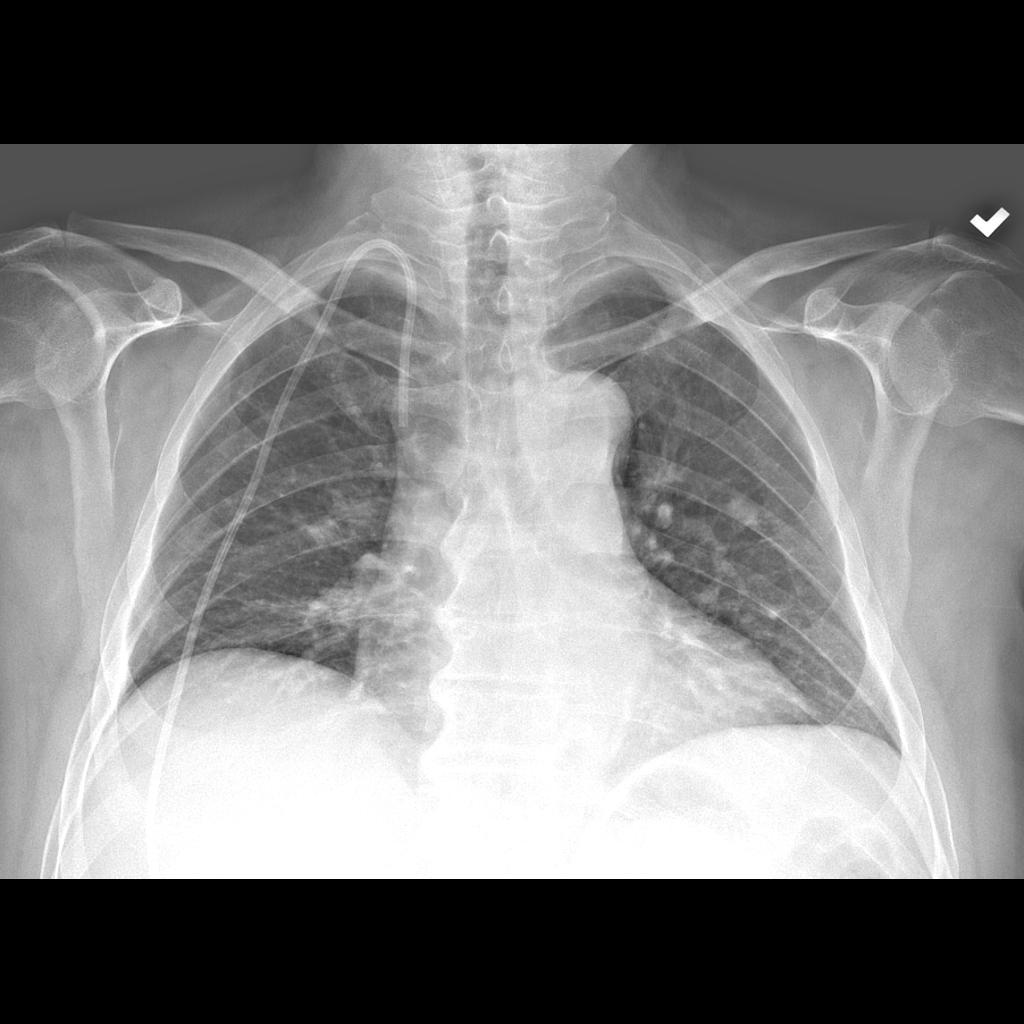Nodule: (718, 484, 775, 545)
